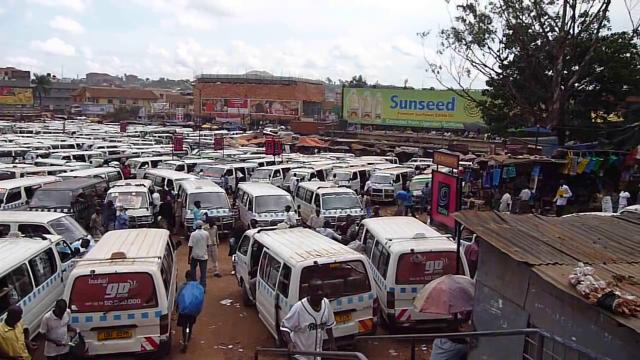van: (232, 222, 375, 348), (74, 228, 177, 360), (381, 216, 462, 328), (0, 234, 67, 349), (27, 175, 116, 229), (0, 209, 93, 253), (169, 177, 234, 239), (294, 180, 366, 231), (141, 167, 206, 222), (235, 182, 298, 236), (102, 178, 157, 230), (0, 175, 65, 213), (326, 163, 387, 198), (196, 160, 261, 191), (250, 163, 307, 192), (281, 164, 334, 194), (60, 166, 122, 191), (370, 167, 410, 205), (407, 170, 445, 206), (151, 158, 215, 179), (127, 155, 180, 179), (402, 157, 435, 172)
